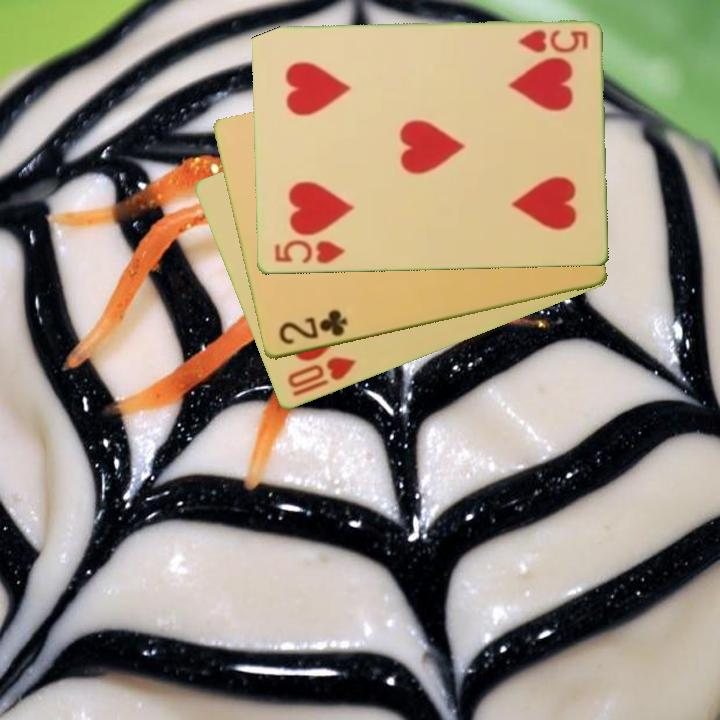10h: (283, 353, 359, 400)
2c: (275, 307, 350, 349)
5h: (271, 236, 348, 267), (515, 27, 591, 56)
